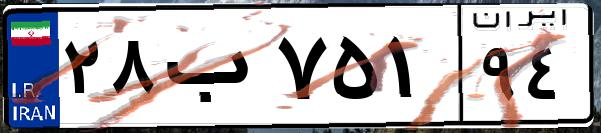1: (385, 28, 445, 110)
2: (57, 26, 110, 100)
4: (525, 38, 570, 115)
5: (330, 28, 385, 110)
7: (270, 28, 330, 110)
8: (110, 28, 158, 98)
9: (475, 38, 525, 113)
ب: (158, 20, 270, 120)
